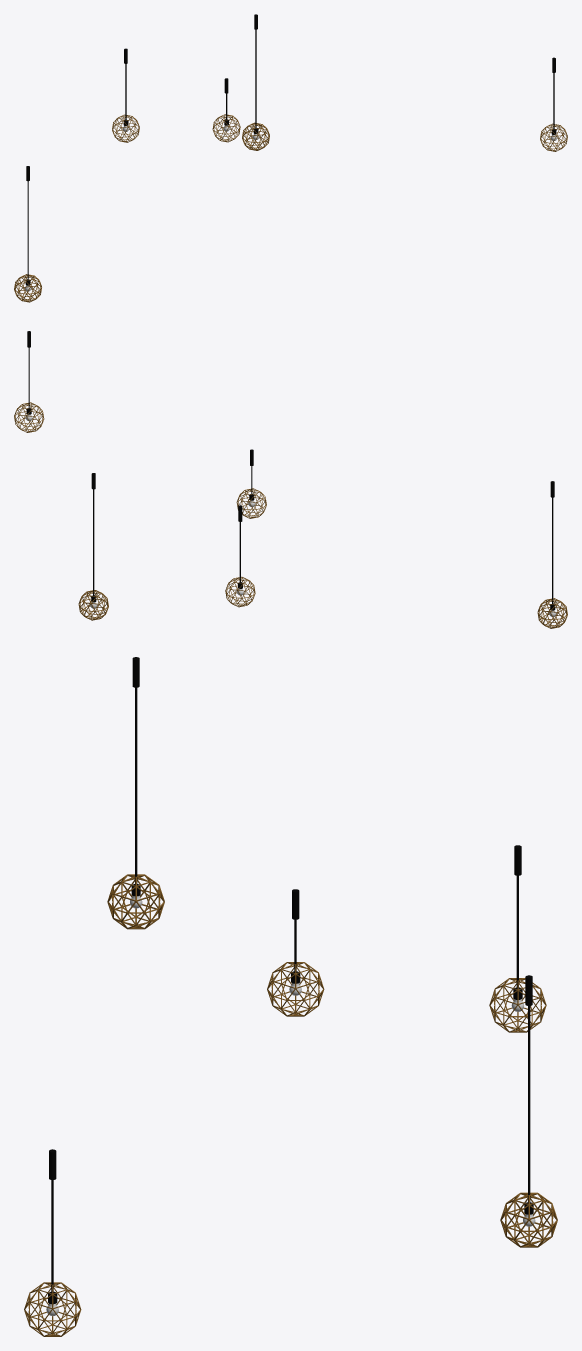
The model's file is lights.fbx.
3 renders of one model, top to bottom at view 1: azimuth 30°, elevation 25°; view 2: azimuth 150°, elevation 25°; view 3: azimuth 270°, elevation 25°, orthographic. The views are drawn at different scales.
Visible parts, largest first — view 1: cage.004, cage, cage.001, cage.003, cage.002; view 2: cage, cage.004, cage.002, cage.003, cage.001; view 3: cage, cage.004, cage.003, cage.001, cage.002, cable long, cable long 2.
Part boxes in pixels (x1,y1,x2,y2): cage.004: (14,274,41,302); cage: (242,122,269,150); cage.001: (212,114,240,142); cage.003: (540,123,567,151); cage.002: (112,114,139,142); cage: (78,590,108,620); cage.004: (537,598,567,628); cage.002: (225,576,255,607); cage.003: (14,402,44,432); cage.001: (236,488,266,518); cage: (500,1192,557,1247); cage.004: (107,874,164,929); cage.003: (24,1282,81,1336); cage.001: (267,962,324,1016); cage.002: (489,978,546,1032); cable long: (524,975,533,1214); cable long 2: (131,657,140,896).
Bounding box in the file's own units: 537 × 131 × 235.
